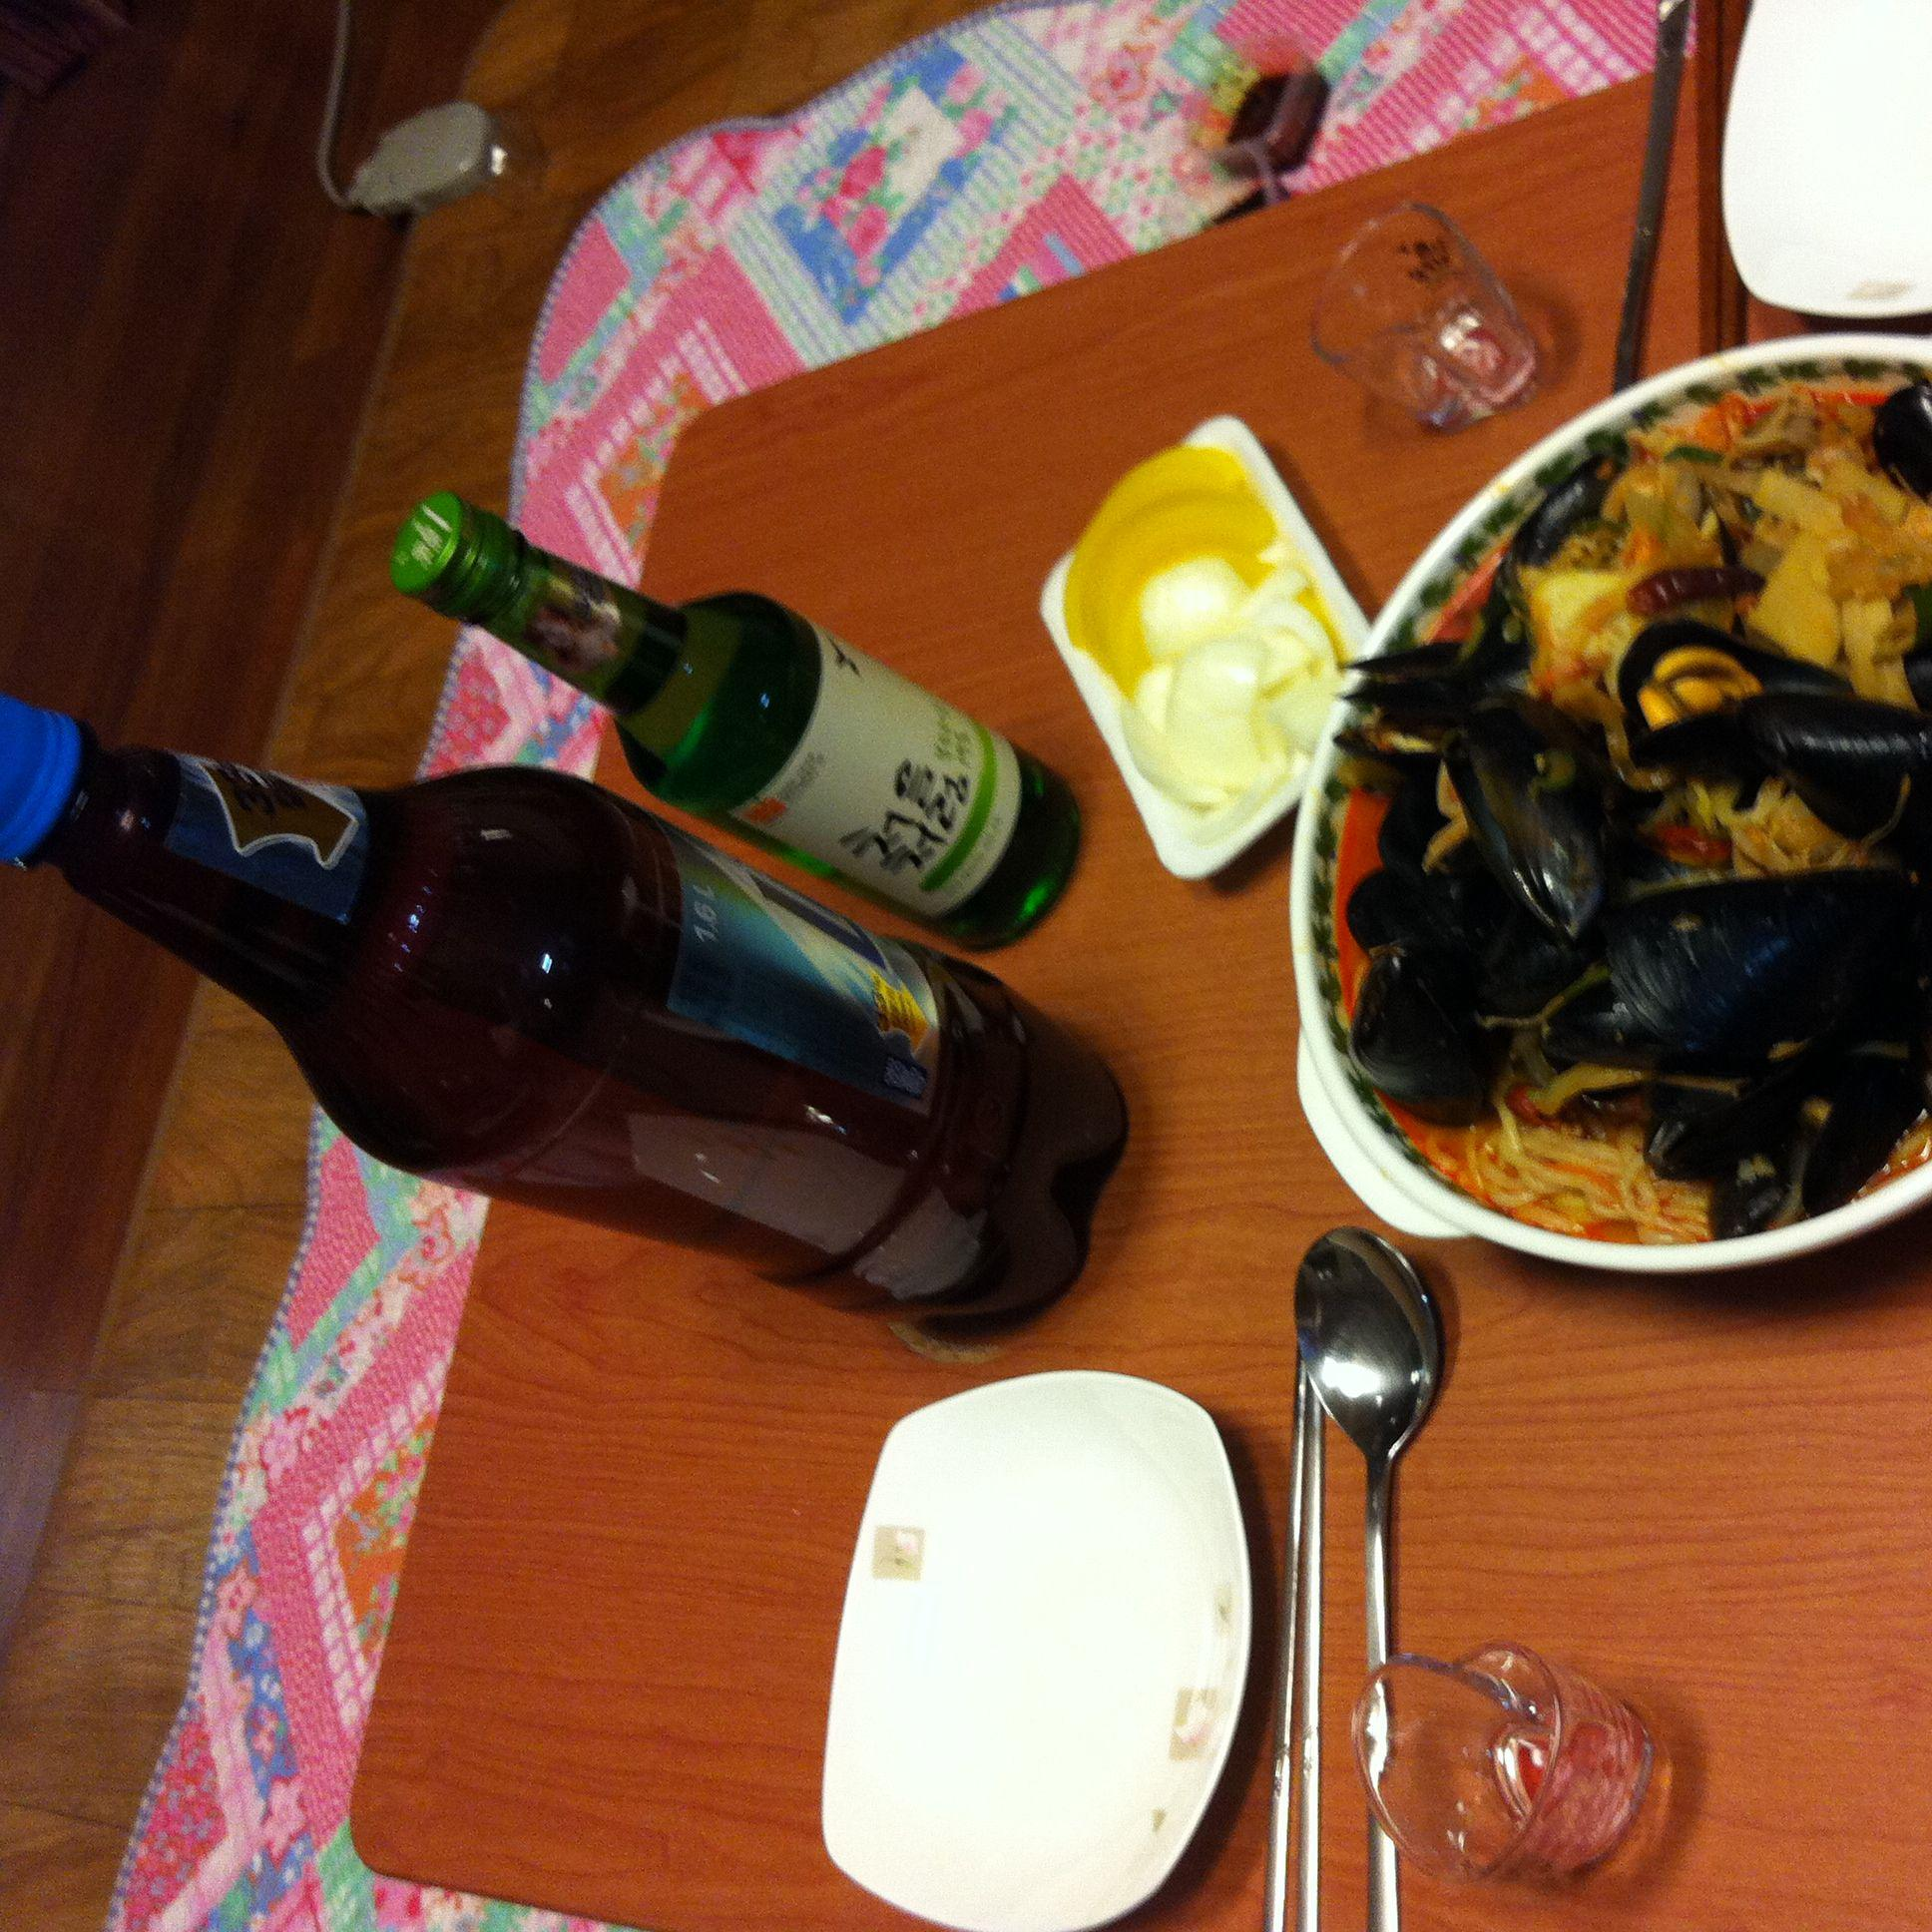soju: (380, 471, 1093, 966)
